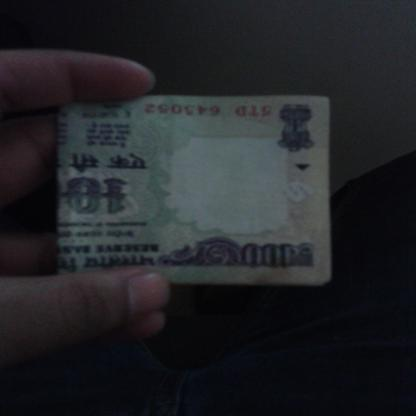Old100Front: (55, 93, 334, 288)
